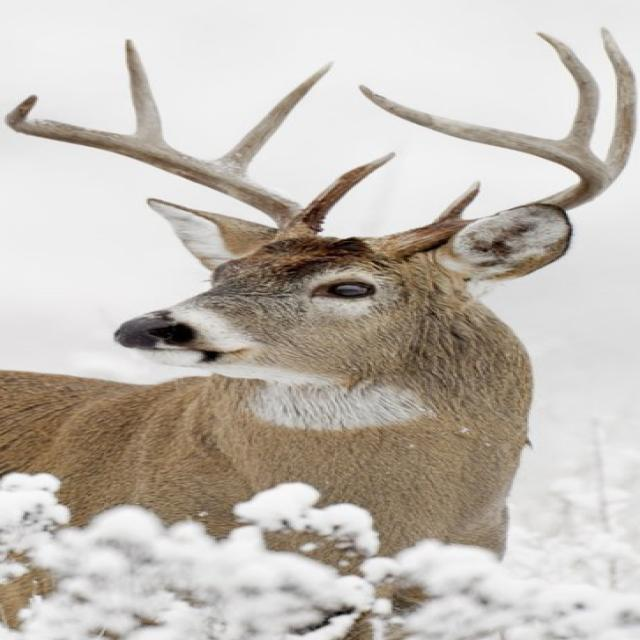L-G1: (431, 180, 482, 223)
L-G2: (599, 25, 638, 178)
L-G3: (534, 31, 600, 147)
R-F: (2, 94, 318, 242)
R-G1: (301, 150, 398, 232)
R-G2: (213, 61, 334, 172)
R-G3: (124, 38, 164, 141)
